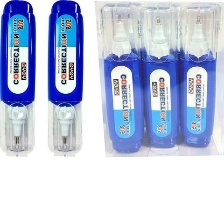correction_fluid: (99, 0, 146, 155), (137, 0, 182, 149), (177, 0, 221, 150), (46, 0, 87, 157), (0, 0, 38, 158)
plastic_box: (92, 0, 224, 159)
